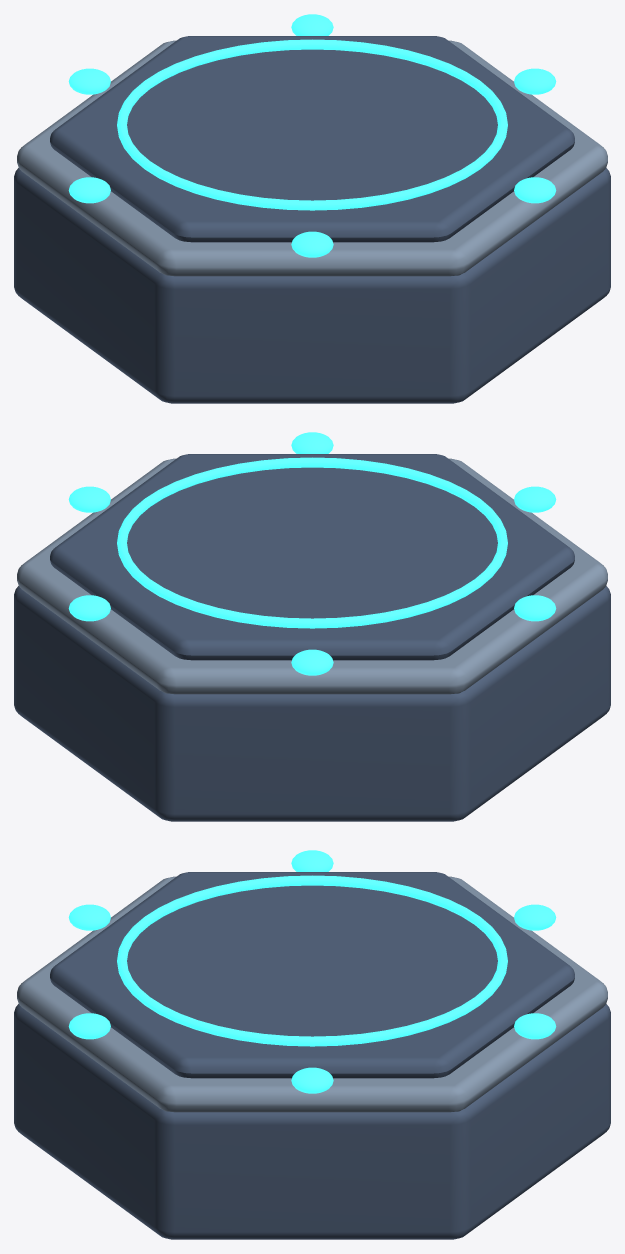
Rendered from Platform.fbx.
The picture shows the model from 3 angles, top to bottom: view 1: azimuth 30°, elevation 25°; view 2: azimuth 150°, elevation 25°; view 3: azimuth 270°, elevation 25°; orthographic projection.
Parts seen in each view (by area): view 1: Foundation, Face, Rim, Energy circuit, Edge light, Edge light.002, Edge light.003, Edge light.005, Edge light.004, Edge light.001; view 2: Foundation, Face, Rim, Energy circuit, Edge light, Edge light.001, Edge light.003, Edge light.004, Edge light.002, Edge light.005; view 3: Foundation, Face, Rim, Energy circuit, Edge light.001, Edge light.002, Edge light.004, Edge light.005, Edge light, Edge light.003.
Boxes of the visible parts, x1=… form: Foundation: x1=14, y1=168, x2=610, y2=403; Face: x1=50, y1=36, x2=574, y2=242; Rim: x1=17, y1=40, x2=607, y2=276; Energy circuit: x1=117, y1=39, x2=507, y2=210; Edge light: x1=514, y1=68, x2=556, y2=94; Edge light.002: x1=68, y1=68, x2=110, y2=94; Edge light.003: x1=68, y1=177, x2=110, y2=203; Edge light.005: x1=514, y1=177, x2=556, y2=203; Edge light.004: x1=291, y1=231, x2=333, y2=257; Edge light.001: x1=291, y1=14, x2=333, y2=35; Foundation: x1=14, y1=586, x2=610, y2=821; Face: x1=50, y1=454, x2=574, y2=660; Rim: x1=17, y1=458, x2=607, y2=694; Energy circuit: x1=117, y1=457, x2=507, y2=628; Edge light: x1=68, y1=486, x2=110, y2=512; Edge light.001: x1=68, y1=595, x2=110, y2=621; Edge light.003: x1=514, y1=595, x2=556, y2=621; Edge light.004: x1=514, y1=486, x2=556, y2=512; Edge light.002: x1=291, y1=649, x2=333, y2=675; Edge light.005: x1=291, y1=432, x2=333, y2=453; Foundation: x1=14, y1=1004, x2=610, y2=1239; Face: x1=50, y1=872, x2=574, y2=1078; Rim: x1=17, y1=876, x2=607, y2=1112; Energy circuit: x1=117, y1=875, x2=507, y2=1046; Edge light.001: x1=514, y1=1013, x2=556, y2=1039; Edge light.002: x1=514, y1=904, x2=556, y2=930; Edge light.004: x1=68, y1=904, x2=110, y2=930; Edge light.005: x1=68, y1=1013, x2=110, y2=1039; Edge light: x1=291, y1=1067, x2=333, y2=1093; Edge light.003: x1=291, y1=850, x2=333, y2=871.
Size of the model in its own units: 184 by 64.63 by 197.
